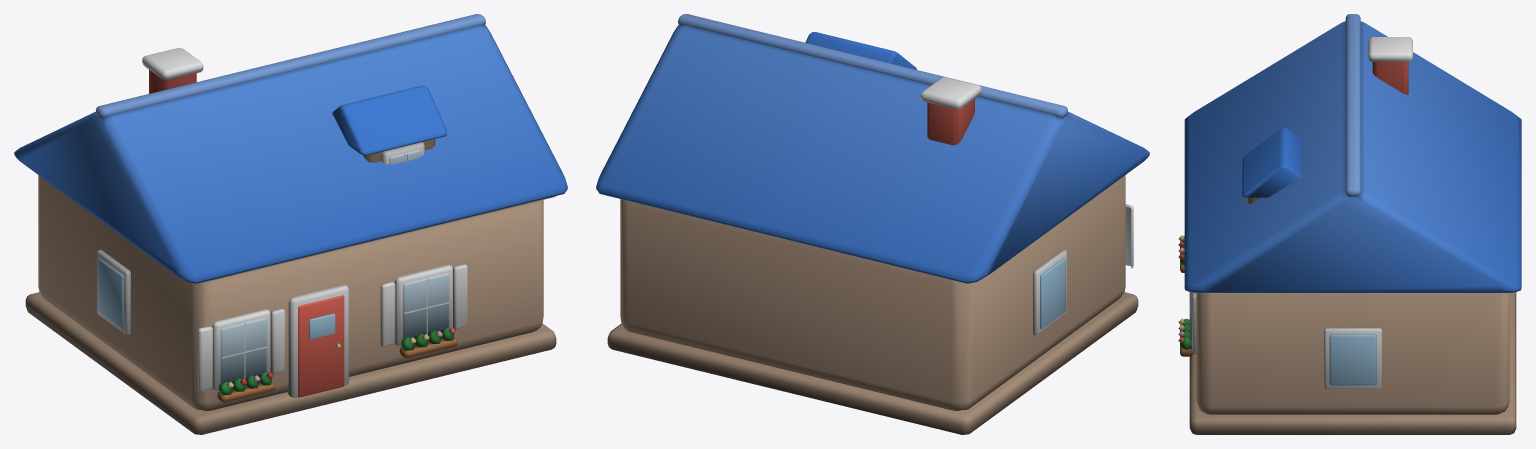
Rendered from prop-house-b.glb.
3 renders of one model, left to right at view 1: azimuth 30°, elevation 25°; view 2: azimuth 150°, elevation 25°; view 3: azimuth 270°, elevation 25°, orthographic. The views are drawn at different scales.
Visible parts, largest first — view 1: house_b; view 2: house_b; view 3: house_b.
Boxes of the visible parts, x1=… form: house_b: x1=14, y1=14, x2=567, y2=434; house_b: x1=596, y1=14, x2=1149, y2=434; house_b: x1=1178, y1=14, x2=1521, y2=434.
Bounding box in the file's own units: 9.4 × 6.48 × 7.67.
